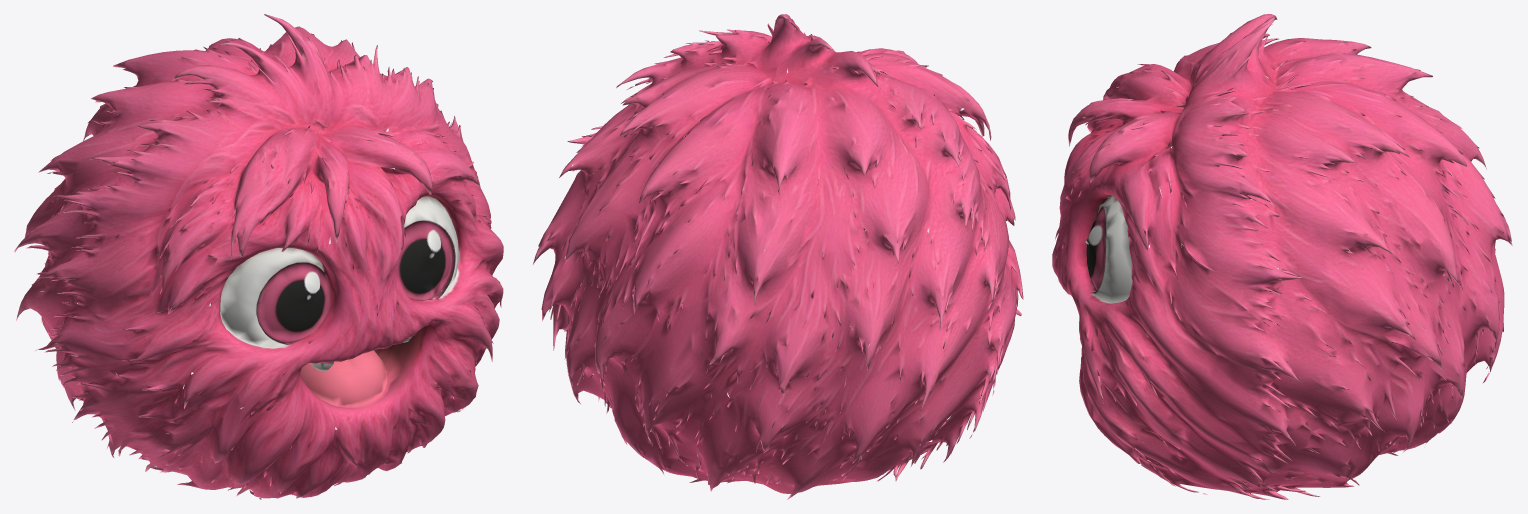
File: Monster Ball (pink).glb
The picture shows the model from 3 angles, left to right: view 1: azimuth 30°, elevation 25°; view 2: azimuth 150°, elevation 25°; view 3: azimuth 270°, elevation 25°; orthographic projection.
Visible parts, largest first — view 1: Model; view 2: Model; view 3: Model.
Boxes of the visible parts, x1=… form: Model: x1=14, y1=14, x2=503, y2=499; Model: x1=533, y1=14, x2=1023, y2=499; Model: x1=1052, y1=14, x2=1512, y2=499.
Size of the model in its own units: 0.514 by 0.5074 by 0.4722.
Materials: 1 (1 with a texture image).
